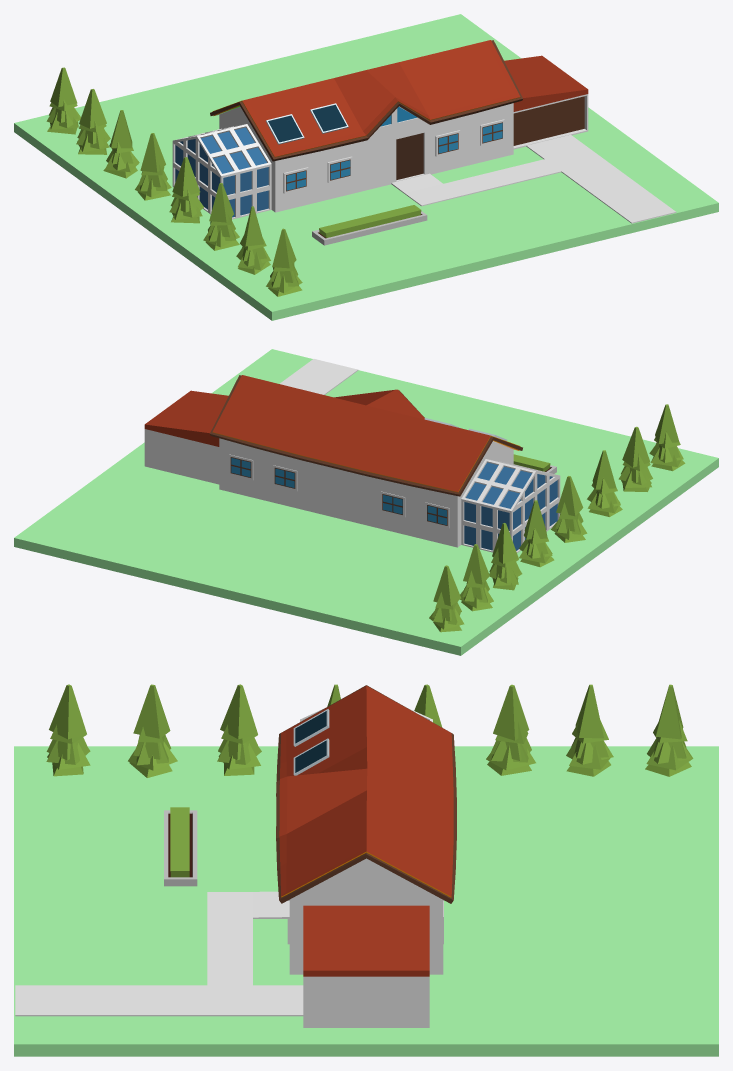
The model's file is house5_H.fbx.
3 renders of one model, top to bottom at view 1: azimuth 30°, elevation 25°; view 2: azimuth 150°, elevation 25°; view 3: azimuth 270°, elevation 25°, orthographic. The views are drawn at different scales.
Visible parts, largest first — view 1: Cube.006, Cube.003, Cube.005, Cube.007, tree_house_H.014, tree_house_H.011, tree_house_H.010, tree_house_H.013, tree_house_H.015, tree_house_H.008, tree_house_H.012, tree_house_H.009 (+2 smaller); view 2: Cube.006, Cube.003, Cube.005, tree_house_H.009, tree_house_H.010, tree_house_H.012, tree_house_H.014, tree_house_H.011, tree_house_H.008, tree_house_H.013, tree_house_H.015; view 3: Cube.006, Cube.003, Cube.005, Cube.007, tree_house_H.008, tree_house_H.015, tree_house_H.012, tree_house_H.009, tree_house_H.011, tree_house_H.010, plaque_solaire.003, plaque_solaire.002.
Part boxes in pixels (box(x1,y1,x2,y2)): Cube.006: box(14, 14, 718, 320); Cube.003: box(172, 40, 588, 219); Cube.005: box(391, 134, 676, 223); Cube.007: box(312, 205, 427, 245); tree_house_H.014: box(169, 157, 203, 223); tree_house_H.011: box(76, 89, 110, 154); tree_house_H.010: box(46, 67, 80, 134); tree_house_H.013: box(135, 133, 171, 200); tree_house_H.015: box(203, 183, 239, 250); tree_house_H.008: box(266, 228, 302, 296); tree_house_H.012: box(103, 110, 139, 178); tree_house_H.009: box(236, 206, 270, 274); Cube.006: box(14, 349, 718, 655); Cube.003: box(144, 375, 560, 552); Cube.005: box(279, 359, 358, 394); tree_house_H.009: box(618, 426, 652, 491); tree_house_H.010: box(429, 565, 464, 632); tree_house_H.012: box(489, 523, 522, 590); tree_house_H.014: box(551, 476, 587, 542); tree_house_H.011: box(460, 544, 493, 611); tree_house_H.008: box(649, 404, 685, 471); tree_house_H.013: box(519, 500, 554, 567); tree_house_H.015: box(587, 450, 622, 516); Cube.006: box(14, 746, 718, 1056); Cube.003: box(276, 685, 456, 1027); Cube.005: box(15, 891, 303, 1016); Cube.007: box(164, 807, 197, 886); tree_house_H.008: box(46, 684, 90, 776); tree_house_H.015: box(217, 684, 261, 775); tree_house_H.012: box(486, 684, 535, 775); tree_house_H.009: box(128, 684, 177, 777); tree_house_H.011: box(566, 684, 613, 776); tree_house_H.010: box(645, 684, 693, 776); plaque_solaire.003: box(293, 709, 329, 746); plaque_solaire.002: box(293, 738, 329, 775).
Size of the model in its own units: 26 by 26 by 5.66.
Materials: 4 (4 with a texture image).
